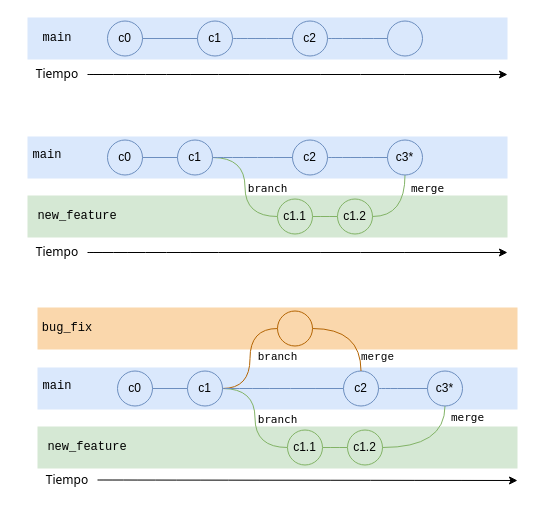
This 534x512 diagram has some shape labels left out. The centre of each missing label's shape, as x and y in pixels:
"c1.a" goes at point (294, 328).
"c3" goes at point (404, 38).
